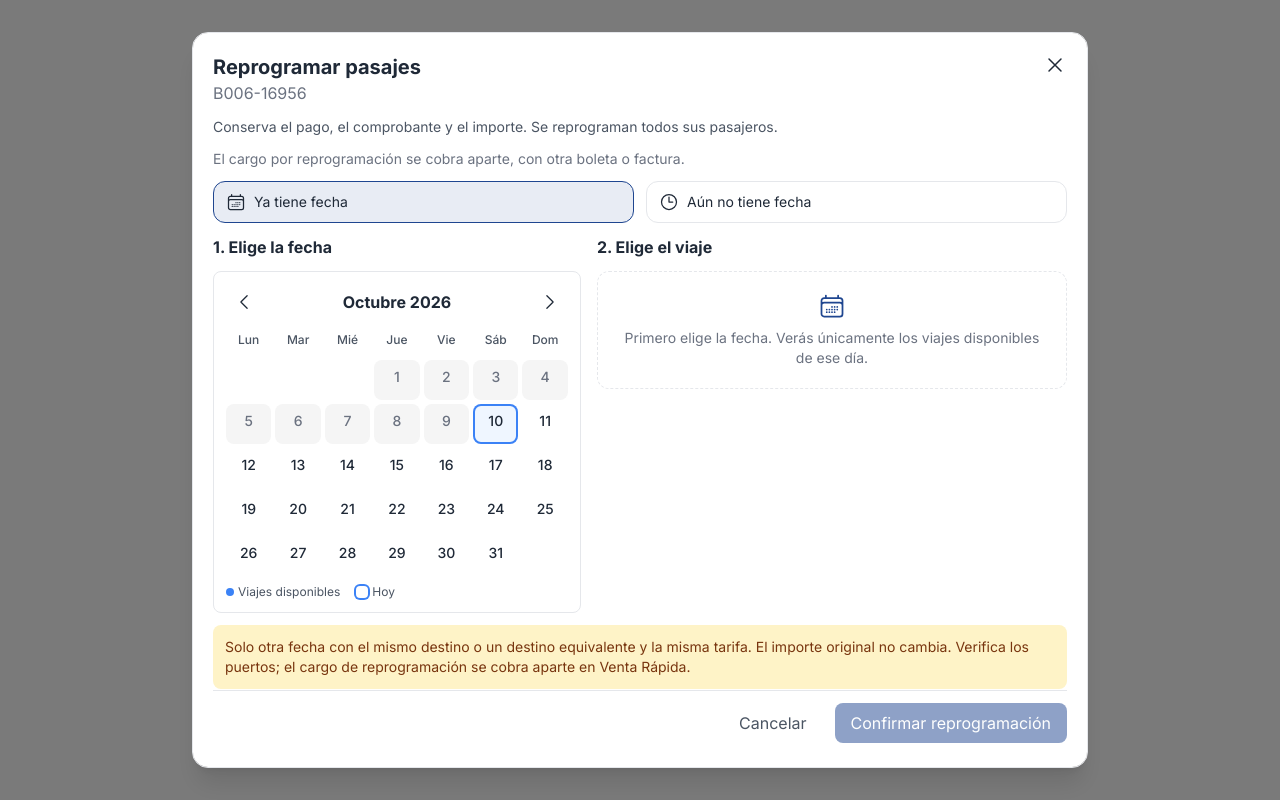
Reprogramación desde la web › consulta solo la fecha elegida y limpia viaje y puertos al cambiar el día
Check: the button "Aún no tiene fecha" is enabled, box 646,181 -> 1067,223
Click the button named "2026-10-10" at (496, 424), box 473,404 -> 518,444
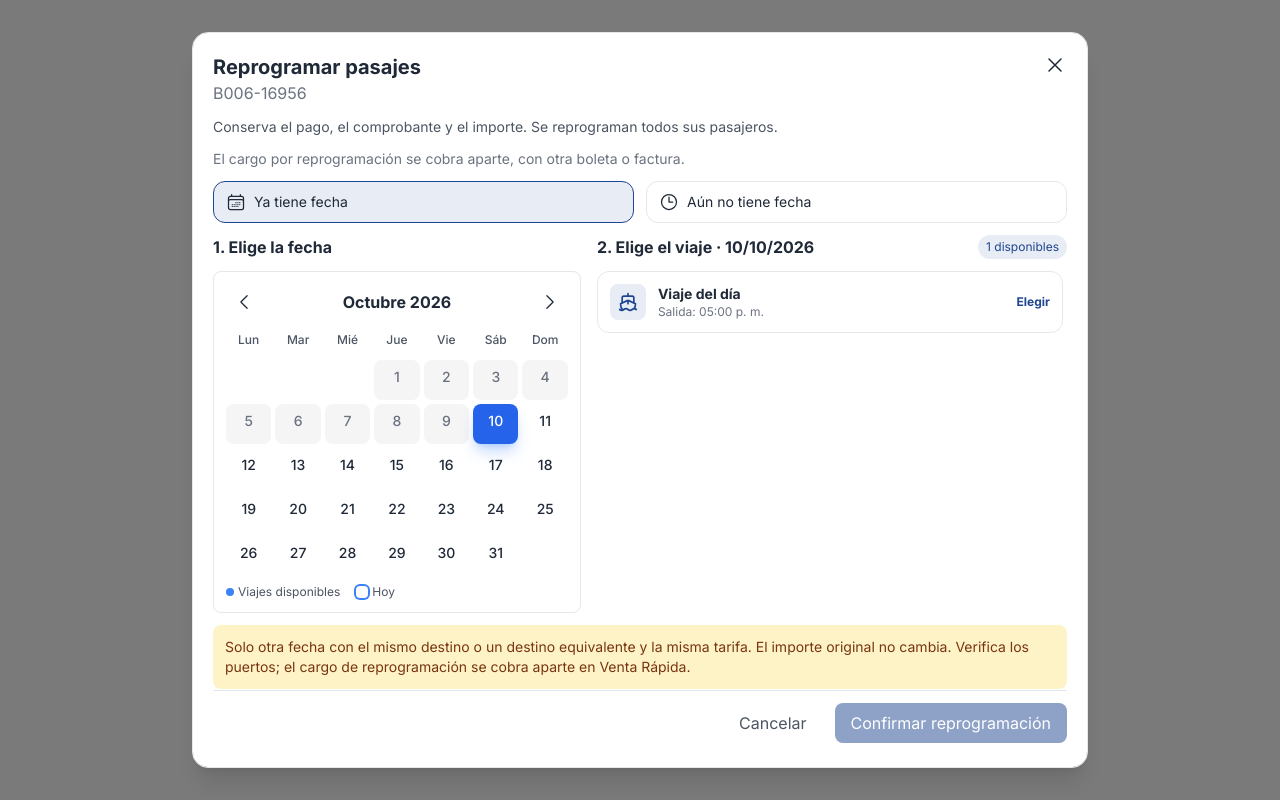
Check: the button "Elegir Viaje del día" is shown
Click the button "Elegir Viaje del día" at (628, 302), box 597,271 -> 1063,333
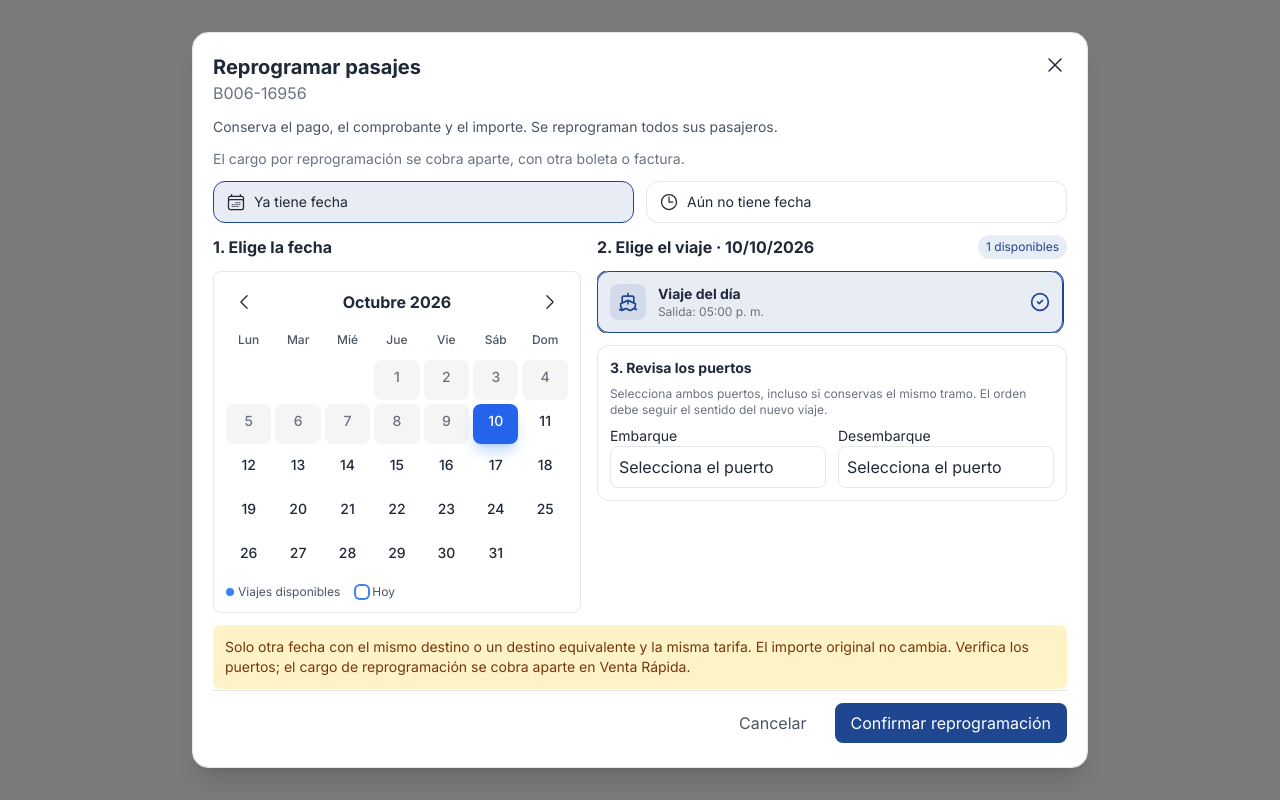
Select "Nauta" in the dropdown labelled "Embarque" at (718, 467), box 610,446 -> 826,488
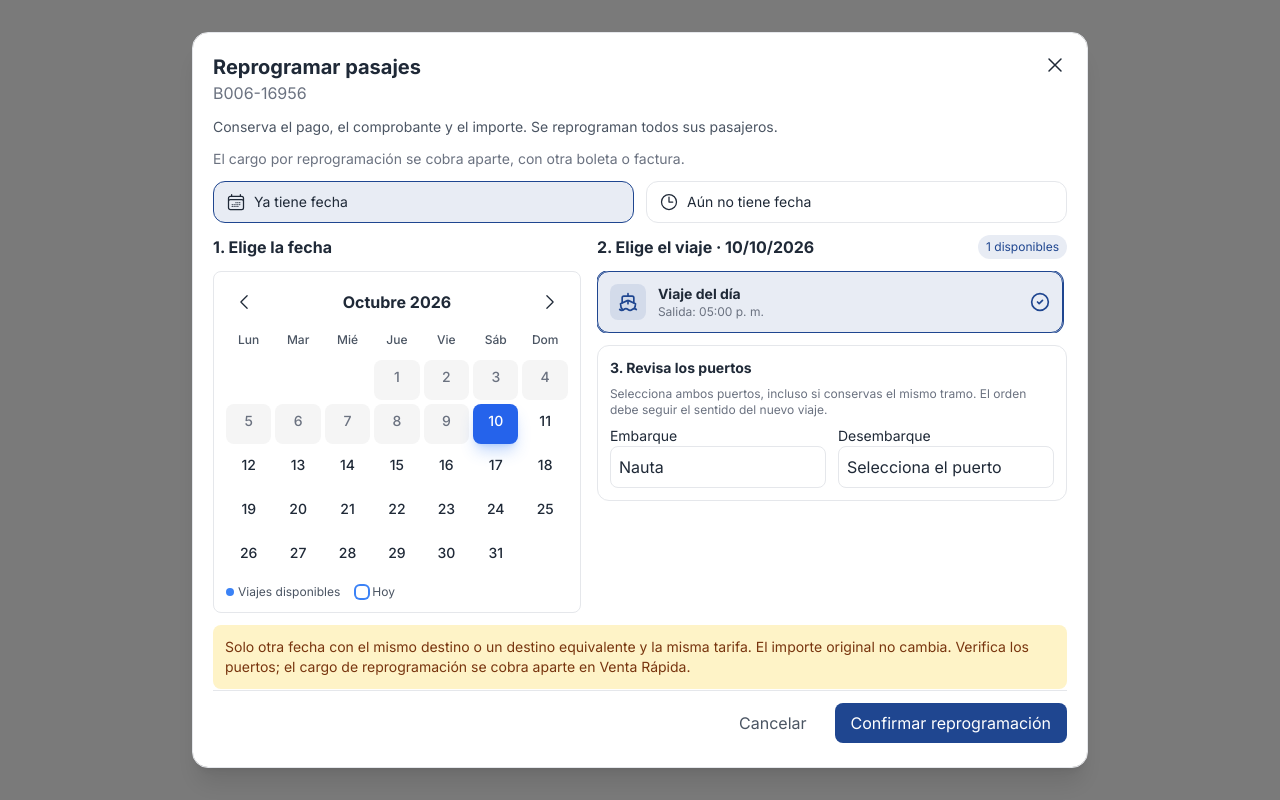
Click the button named "2026-10-11" at (545, 424), box 522,404 -> 568,444
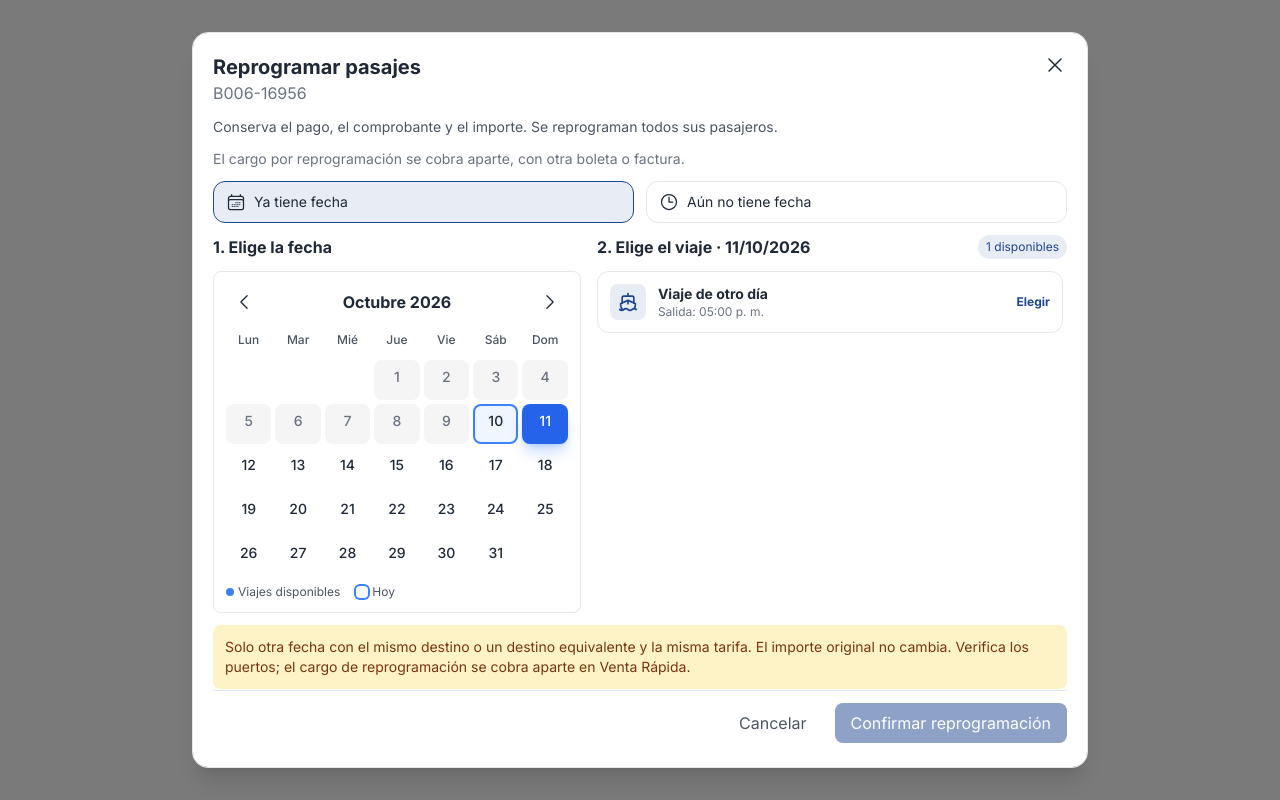
Check: the label labelled "Embarque" is gone
Check: the button "Confirmar reprogramación" is disabled, box 834,703 -> 1067,743
